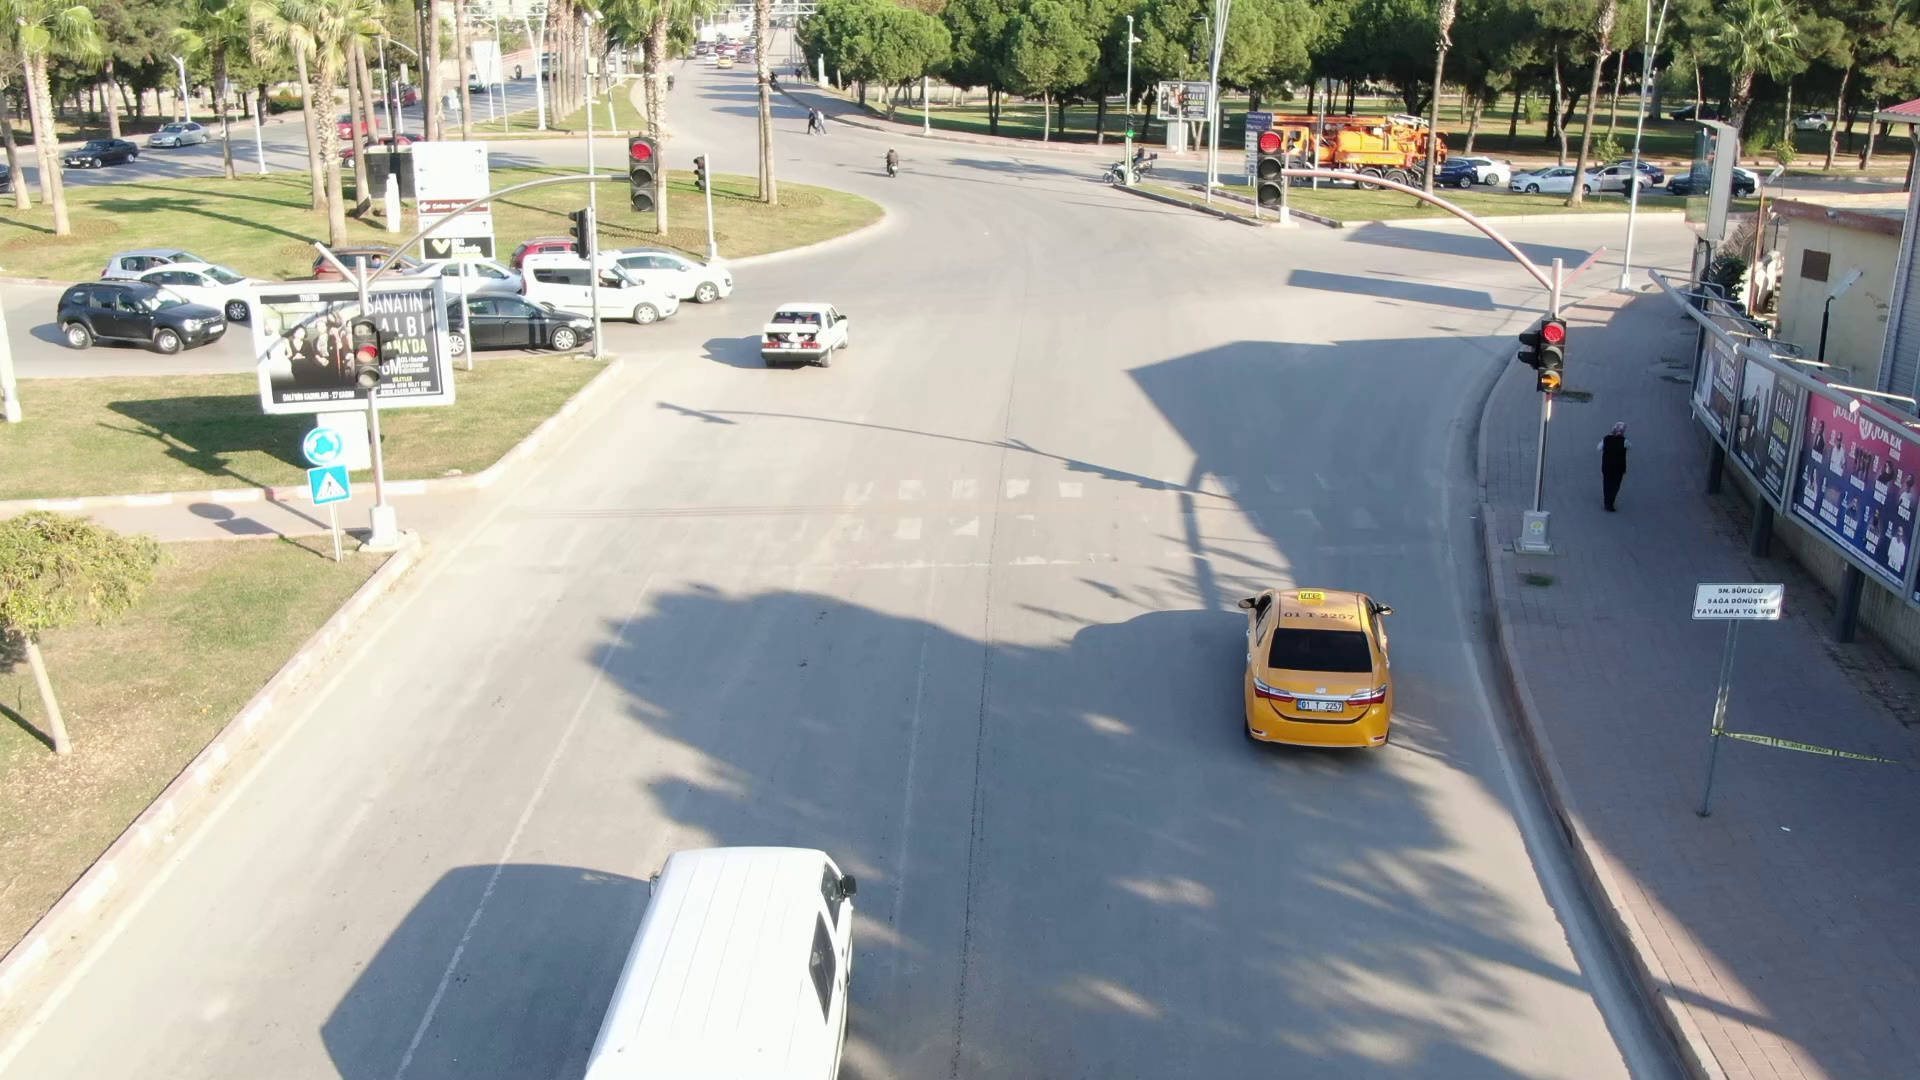car: (564, 843, 870, 1080), (1229, 580, 1400, 761), (53, 276, 229, 359), (517, 247, 686, 319), (443, 292, 600, 349), (606, 245, 737, 300), (757, 296, 847, 372)
person: (1590, 419, 1635, 517)
